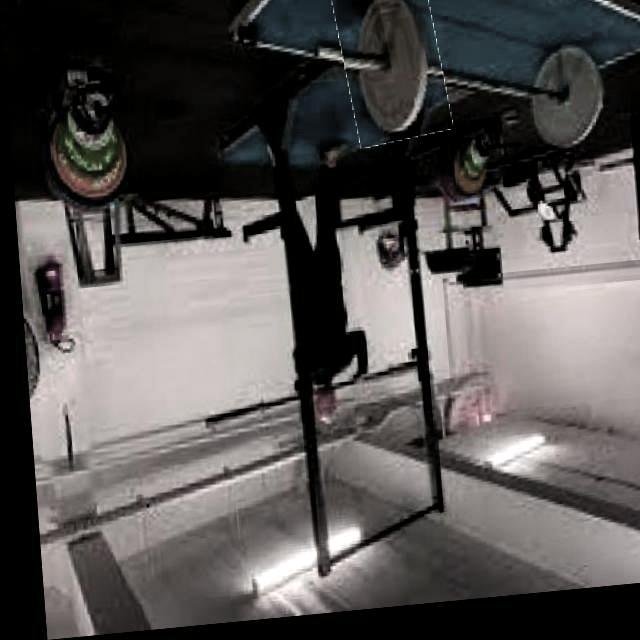barbell: (335, 1, 447, 155)
